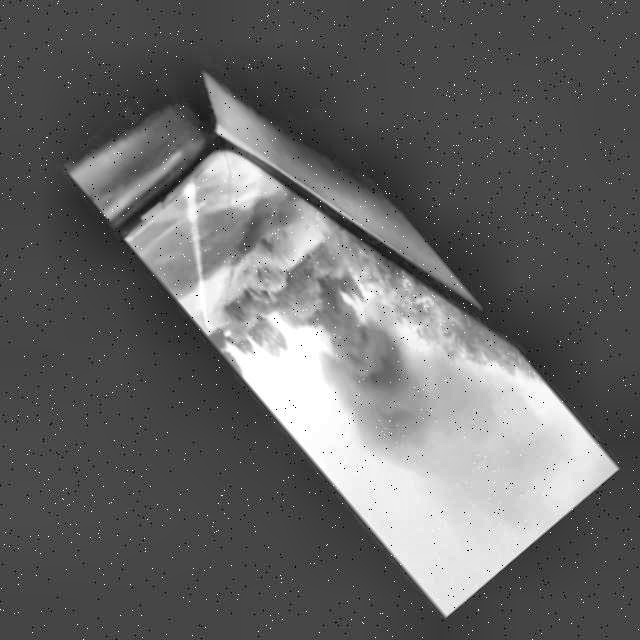Smoke: (268, 242, 596, 572)
